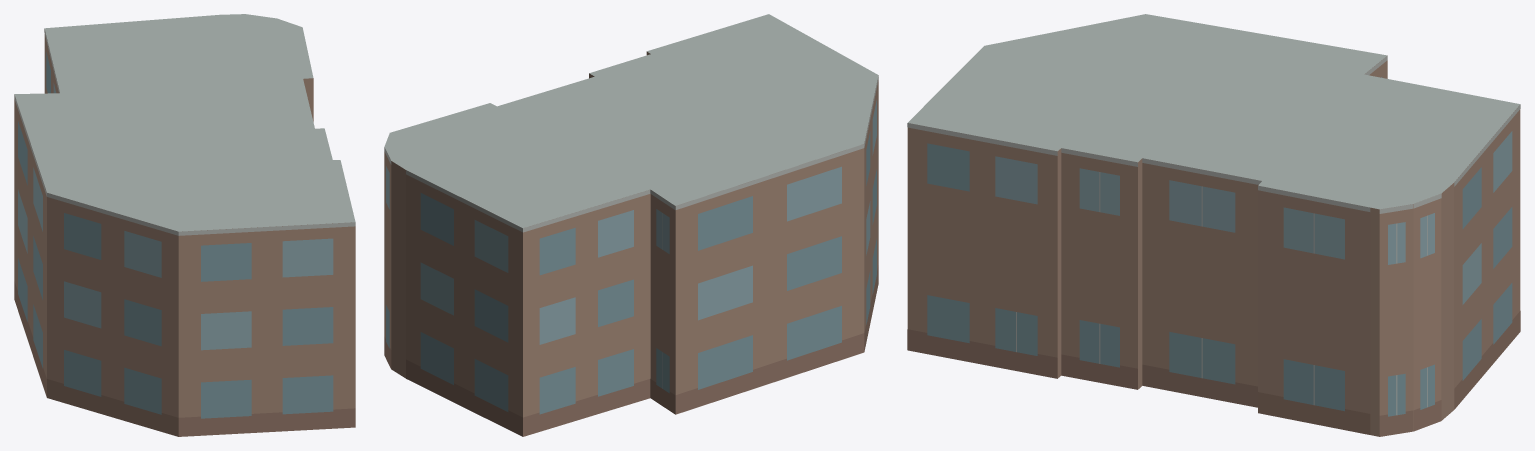
Rendered from survey-upis-32996790.glb.
3 views of the same model, side by side, from view 1: azimuth 30°, elevation 25°; view 2: azimuth 150°, elevation 25°; view 3: azimuth 270°, elevation 25° (orthographic). The views are drawn at different scales.
Visible parts, largest first — view 1: survey-upis-32996790.tmp; view 2: survey-upis-32996790.tmp; view 3: survey-upis-32996790.tmp.
Part boxes in pixels (x1,y1,x2,y2): survey-upis-32996790.tmp: (14,14,355,436); survey-upis-32996790.tmp: (384,14,878,436); survey-upis-32996790.tmp: (907,14,1520,436).
Size of the model in its own units: 21.93 by 11.9 by 29.06.
